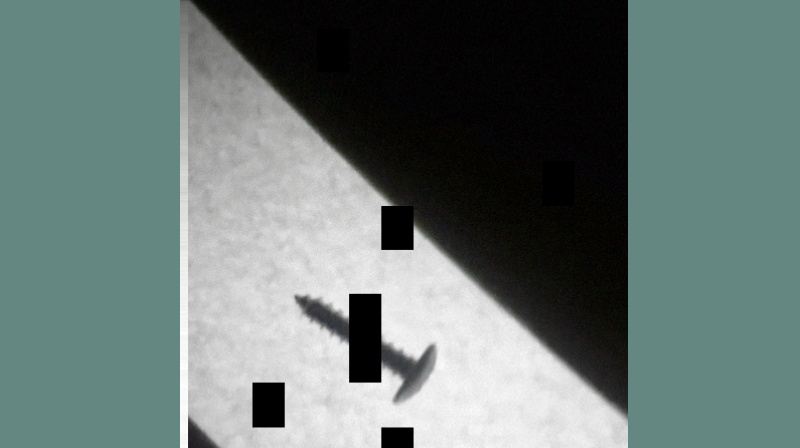S003: (289, 289, 441, 405)
